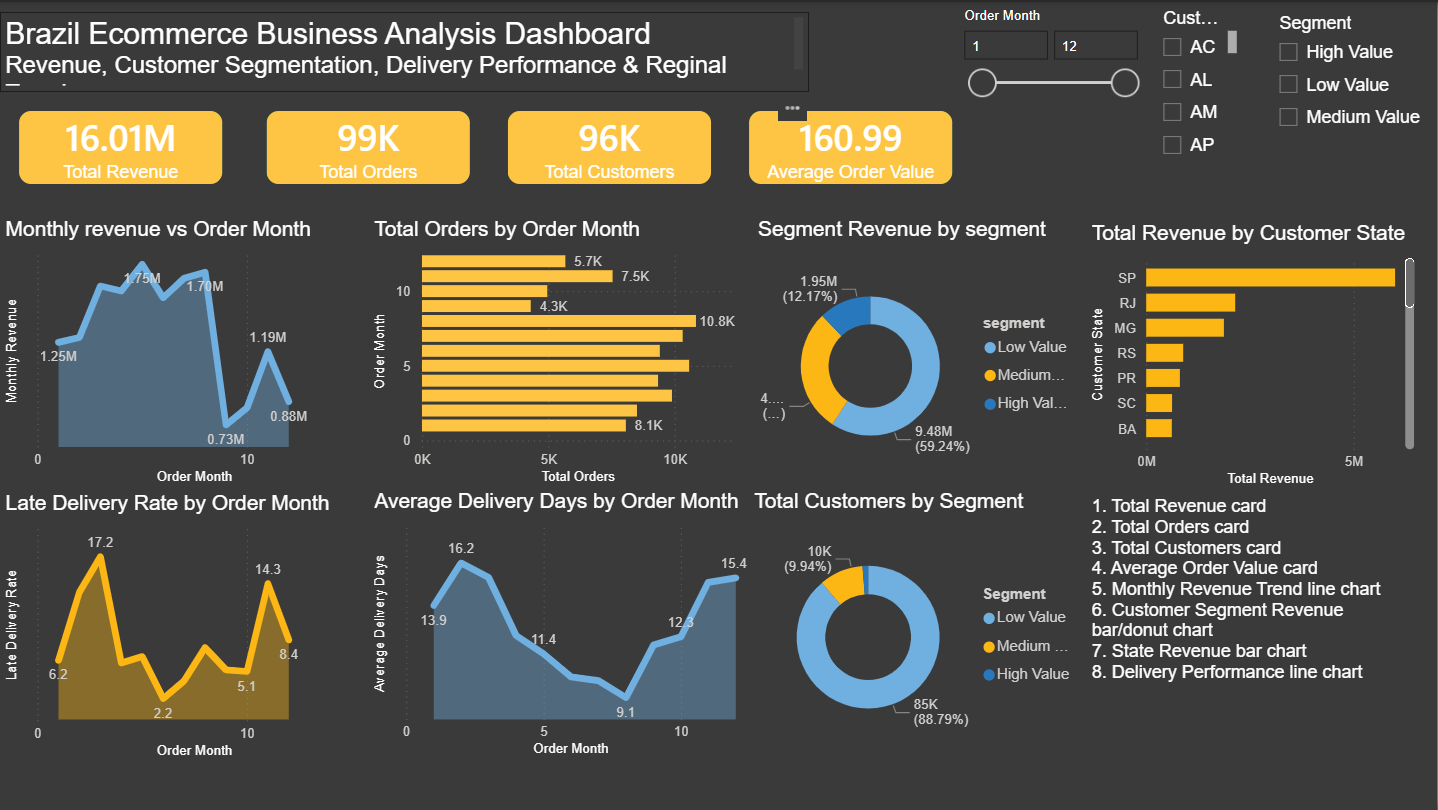

The dashboard page shown, as its layout file describes it:
{"tool":"powerbi","page":{"name":"Page 1","canvas":[1280,720],"ordinal":0},"visuals":[{"type":"cardVisual","title":"Total Revenue","fields":{"Data":["Sum(dashboard_summary_kpi.total_revenue)"]},"box":[0,79.6,215.2,99.5],"z":0},{"type":"cardVisual","fields":{"Data":["Sum(dashboard_summary_kpi.total_orders)"]},"box":[220.2,79.6,215.2,99.5],"z":1000},{"type":"cardVisual","fields":{"Data":["Sum(dashboard_summary_kpi.total_customers)"]},"box":[435.4,79.6,215.2,99.5],"z":2000},{"type":"cardVisual","fields":{"Data":["Sum(dashboard_summary_kpi.avg_order_value)"]},"box":[650.6,79.6,215.2,99.5],"z":3000},{"type":"lineChart","title":"Monthly revenue Trend","fields":{"Category":["monthly_revenue_kpi.order_month"],"Y":["Sum(monthly_revenue_kpi.monthly_revenue)"]},"box":[0,191.6,328.4,242.6],"z":4000},{"type":"clusteredBarChart","title":"Total Orders Volume","fields":{"Category":["monthly_revenue_kpi.order_month"],"Y":["Sum(monthly_revenue_kpi.total_orders)"]},"box":[328.4,191.6,342.1,242.6],"z":5000},{"type":"donutChart","title":"Revenue by Customer Segment","fields":{"Y":["Sum(customer_segment_kpi.segment_revenue)"],"Category":["customer_segment_kpi.segment"]},"box":[670.5,191.6,297.3,245.1],"z":6000},{"type":"donutChart","title":"Customers by Segment","fields":{"Category":["customer_segment_kpi.segment"],"Y":["Sum(customer_segment_kpi.total_customers)"]},"box":[666.8,434.1,301,242.6],"z":7000},{"type":"lineChart","title":"Average Delivery Days Trend","fields":{"Category":["delivery_performance_kpi.order_month"],"Y":["Sum(delivery_performance_kpi.avg_delivery_days)"]},"box":[328.4,434.1,342.1,242.6],"z":8000},{"type":"lineChart","title":"Late Delivery Rate Trend","fields":{"Category":["delivery_performance_kpi.order_month"],"Y":["Sum(delivery_performance_kpi.late_delivery_rate)"]},"box":[0,435.4,328.4,242.6],"z":9000},{"type":"clusteredBarChart","title":"Revenue by Customer State","fields":{"Category":["state_revenue_kpi.customer_state"],"Y":["Sum(state_revenue_kpi.total_revenue)"]},"box":[967.8,195.3,297.3,241.3],"z":10000},{"type":"slicer","fields":{"Values":["monthly_revenue_kpi.order_month"]},"box":[845.9,0,176.6,98.3],"z":11000},{"type":"slicer","fields":{"Values":["customer_segment_kpi.segment"]},"box":[1127,5,153,150.5],"z":12000},{"type":"slicer","fields":{"Values":["state_revenue_kpi.customer_state"]},"box":[1022.5,0,83.3,150.5],"z":13000},{"type":"textbox","box":[0,8.1,534.9,70.9],"z":14000},{"type":"textbox","box":[967.8,435.4,297.3,242.6],"z":15000}]}

Visuals, with their boxes in screenshot pixels (x1, y1, x2, y2), scaled from the page's 1280x720 canvas onto the 1438x810 screenshot:
"Total Revenue" cardVisual: bbox=(0, 90, 242, 201)
cardVisual - Sum(dashboard_summary_kpi.total_orders): bbox=(247, 90, 489, 201)
cardVisual - Sum(dashboard_summary_kpi.total_customers): bbox=(489, 90, 731, 201)
cardVisual - Sum(dashboard_summary_kpi.avg_order_value): bbox=(731, 90, 973, 201)
"Monthly revenue Trend" lineChart: bbox=(0, 216, 369, 488)
"Total Orders Volume" clusteredBarChart: bbox=(369, 216, 753, 488)
"Revenue by Customer Segment" donutChart: bbox=(753, 216, 1087, 491)
"Customers by Segment" donutChart: bbox=(749, 488, 1087, 761)
"Average Delivery Days Trend" lineChart: bbox=(369, 488, 753, 761)
"Late Delivery Rate Trend" lineChart: bbox=(0, 490, 369, 763)
"Revenue by Customer State" clusteredBarChart: bbox=(1087, 220, 1421, 491)
slicer - monthly_revenue_kpi.order_month: bbox=(950, 0, 1149, 111)
slicer - customer_segment_kpi.segment: bbox=(1266, 6, 1437, 175)
slicer - state_revenue_kpi.customer_state: bbox=(1149, 0, 1242, 169)
textbox: bbox=(0, 9, 601, 89)
textbox: bbox=(1087, 490, 1421, 763)
